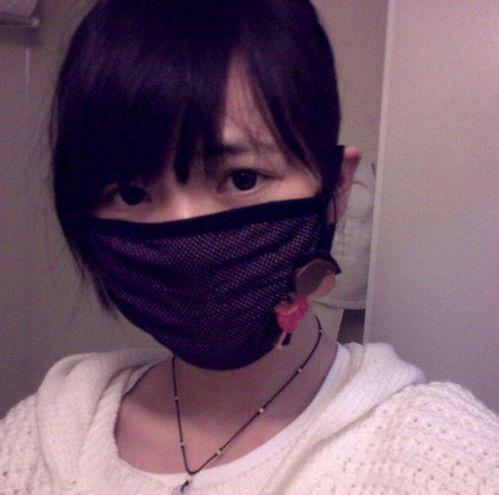OK: (80, 133, 311, 364)
